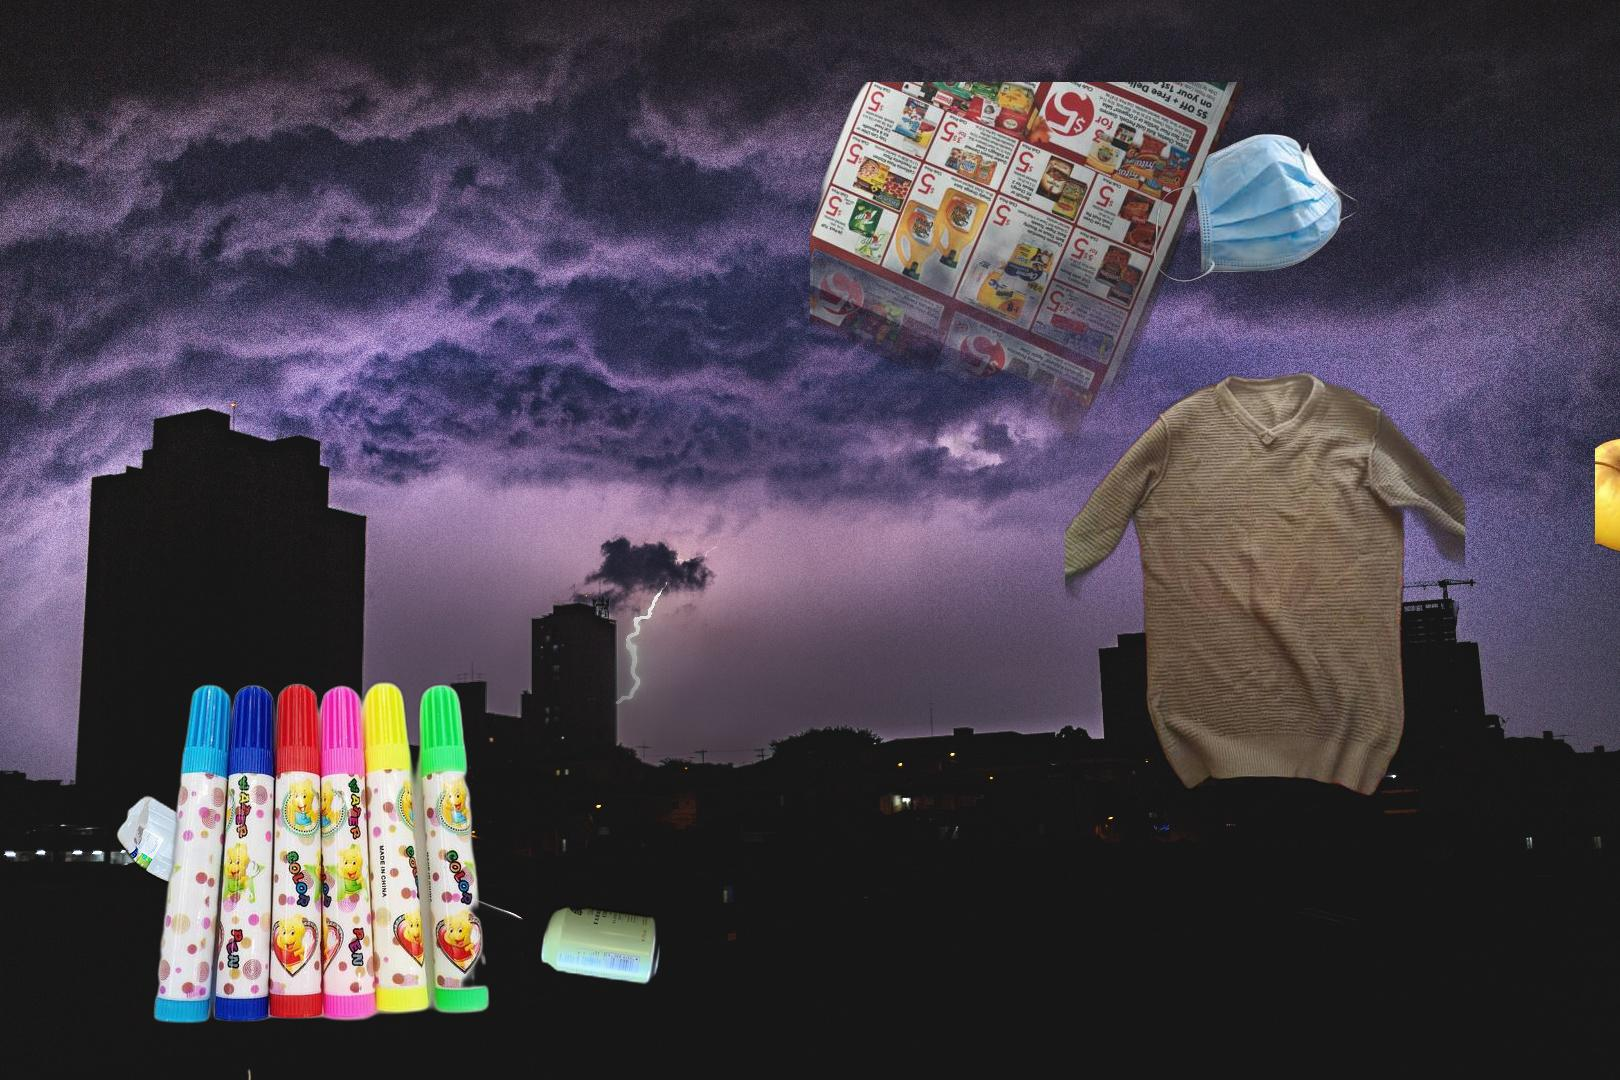biological: (1595, 391, 1620, 589)
clothes: (1066, 368, 1465, 802), (86, 1066, 462, 1080)
metal-cans: (536, 900, 665, 991)
paper: (810, 82, 1256, 466)
penholder: (149, 676, 494, 1028)
plastic-bottles: (112, 790, 257, 921)
trash: (1151, 131, 1363, 284)
